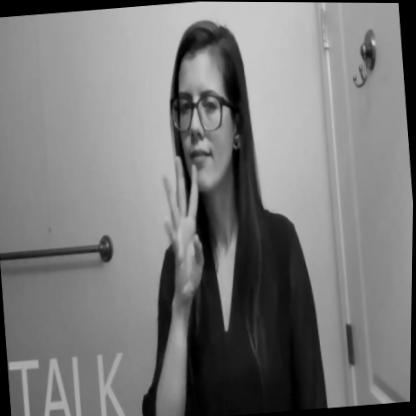Talk: (141, 15, 284, 313)
